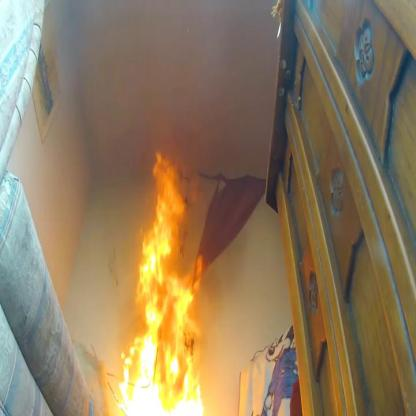fire: (113, 145, 211, 416)
